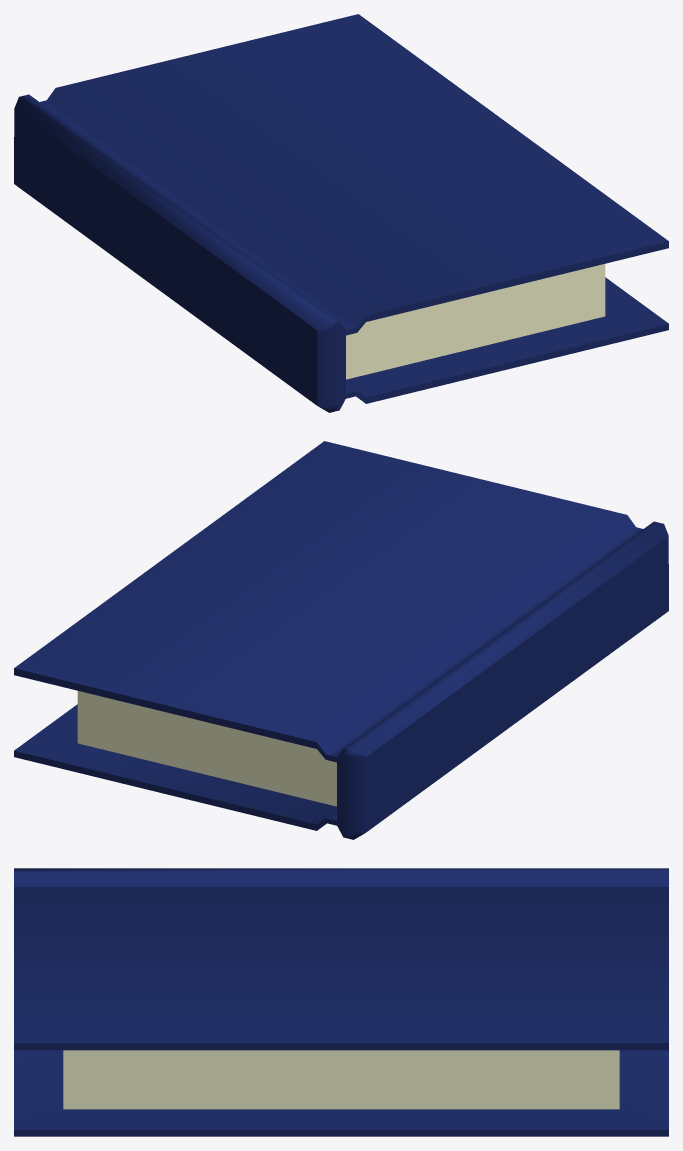
The model's file is Buch.fbx.
The picture shows the model from 3 angles, top to bottom: view 1: azimuth 30°, elevation 25°; view 2: azimuth 150°, elevation 25°; view 3: azimuth 270°, elevation 25°; orthographic projection. The views are drawn at different scales.
Visible parts, largest first — view 1: Cube; view 2: Cube; view 3: Cube.
Boxes of the visible parts, <box> form: Cube: <box>14,14,668,412</box>; Cube: <box>14,441,668,839</box>; Cube: <box>14,868,668,1136</box>.
Size of the model in its own units: 12.3 by 3 by 19.
